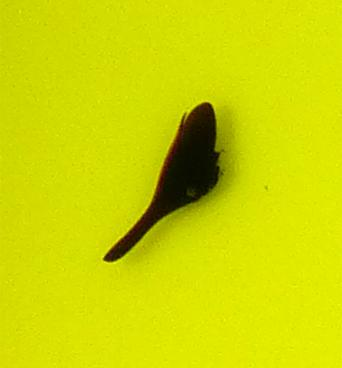Hemiptera: (100, 100, 242, 268)
